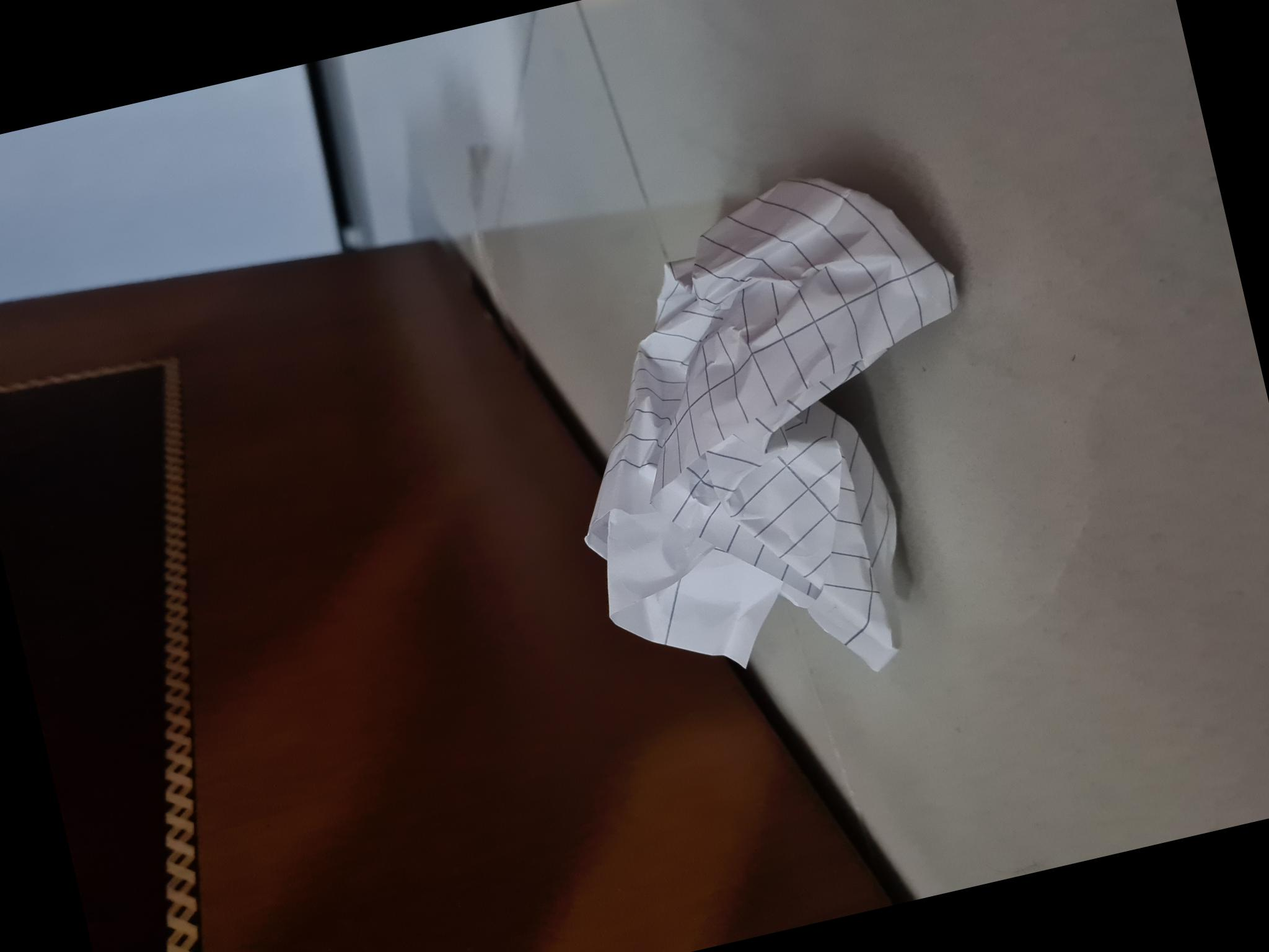Kertas: (323, 618, 812, 952)
